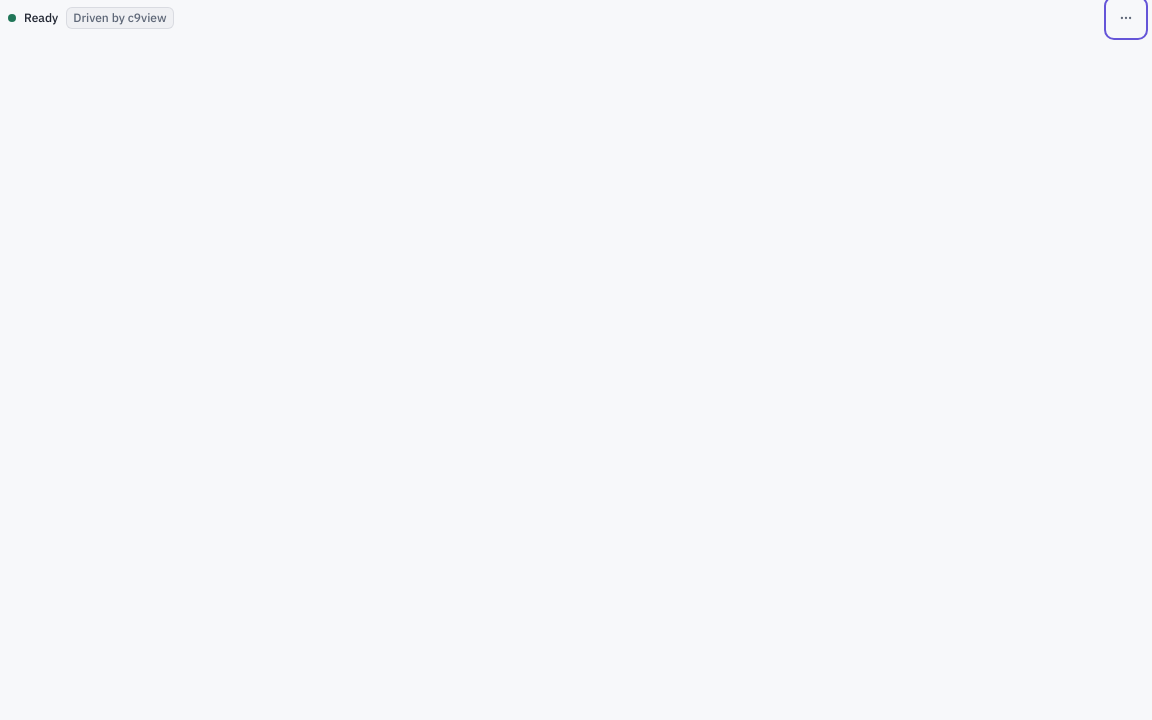
Cancel closes without stopping and returns focus to Run options
The image size is (1152, 720).
Click the button named "Run options" at (1126, 18), box x1=1108 y1=0 x2=1144 y2=36
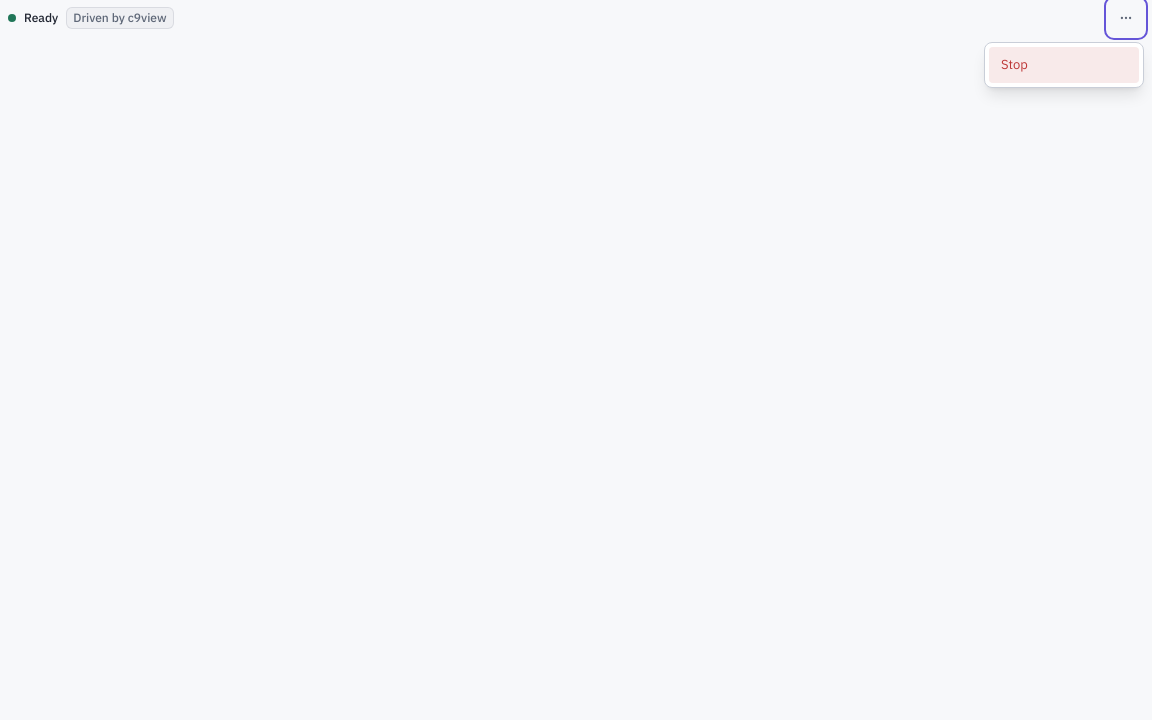
Click the menu item "Stop" at (1064, 65), box x1=989 y1=47 x2=1139 y2=83
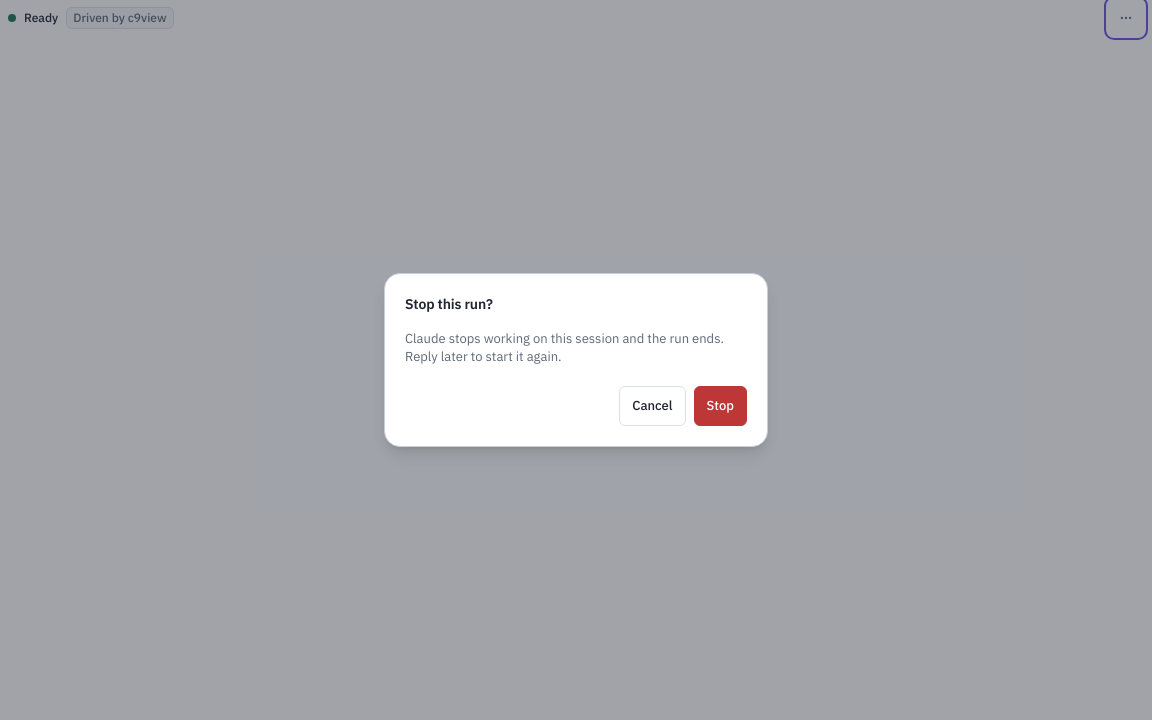
Click the button "Cancel" at (652, 406), box x1=619 y1=386 x2=686 y2=426
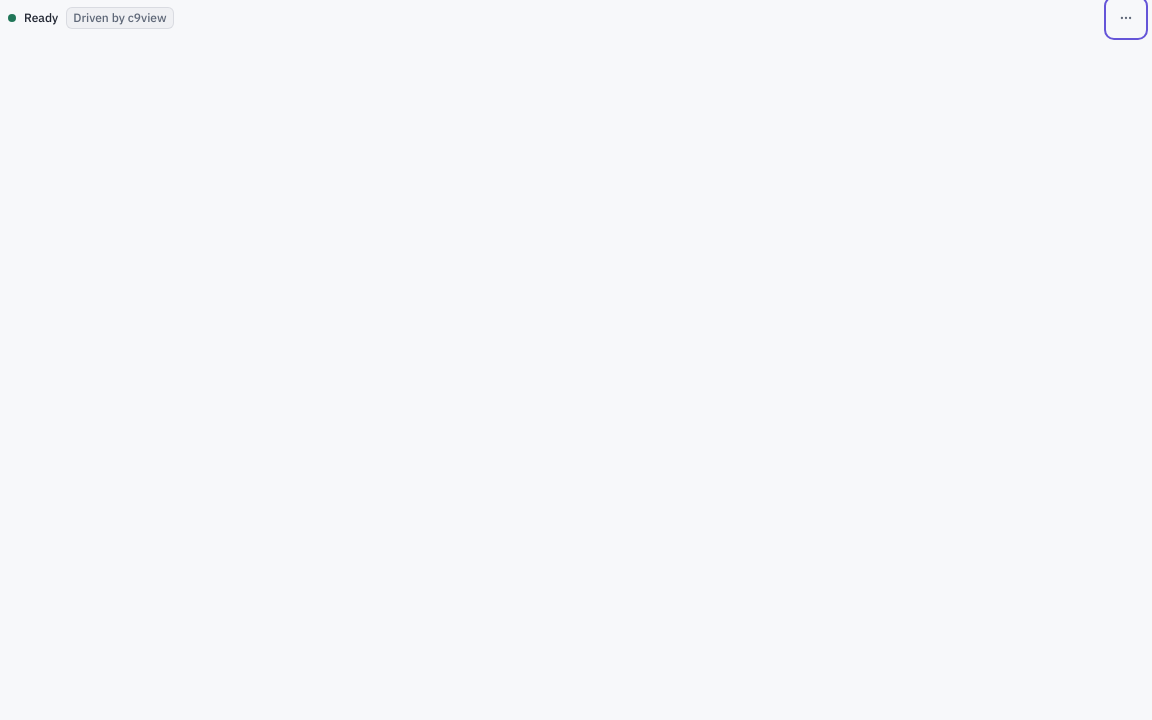
Expected: the dialog is gone
